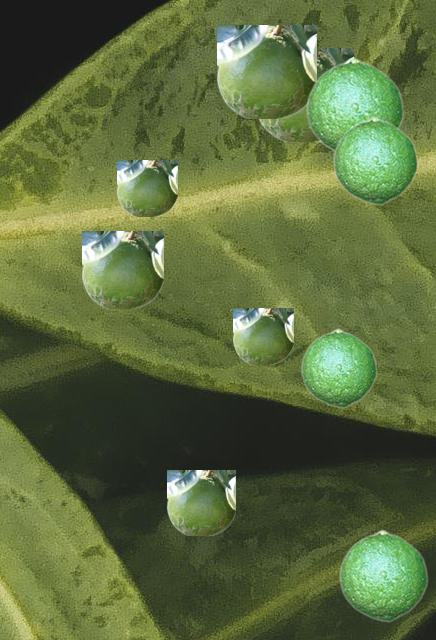dalandan: (305, 57, 403, 152), (217, 25, 315, 117), (257, 48, 352, 140), (338, 529, 427, 621), (332, 116, 417, 204), (82, 231, 162, 307), (300, 328, 376, 407), (167, 470, 234, 534), (117, 160, 176, 215), (233, 308, 292, 363)
